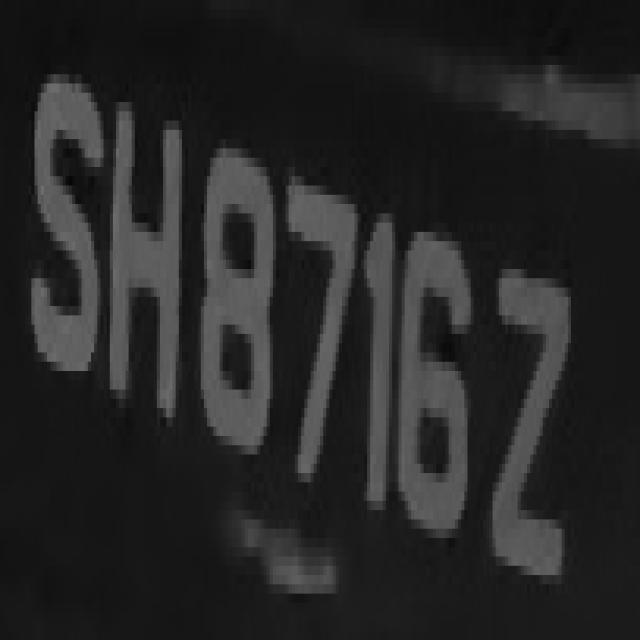1: (352, 158, 402, 556)
6: (401, 204, 477, 575)
7: (270, 167, 358, 510)
8: (188, 111, 273, 473)
H: (104, 74, 188, 455)
S: (25, 18, 100, 390)
Z: (483, 223, 574, 603)
